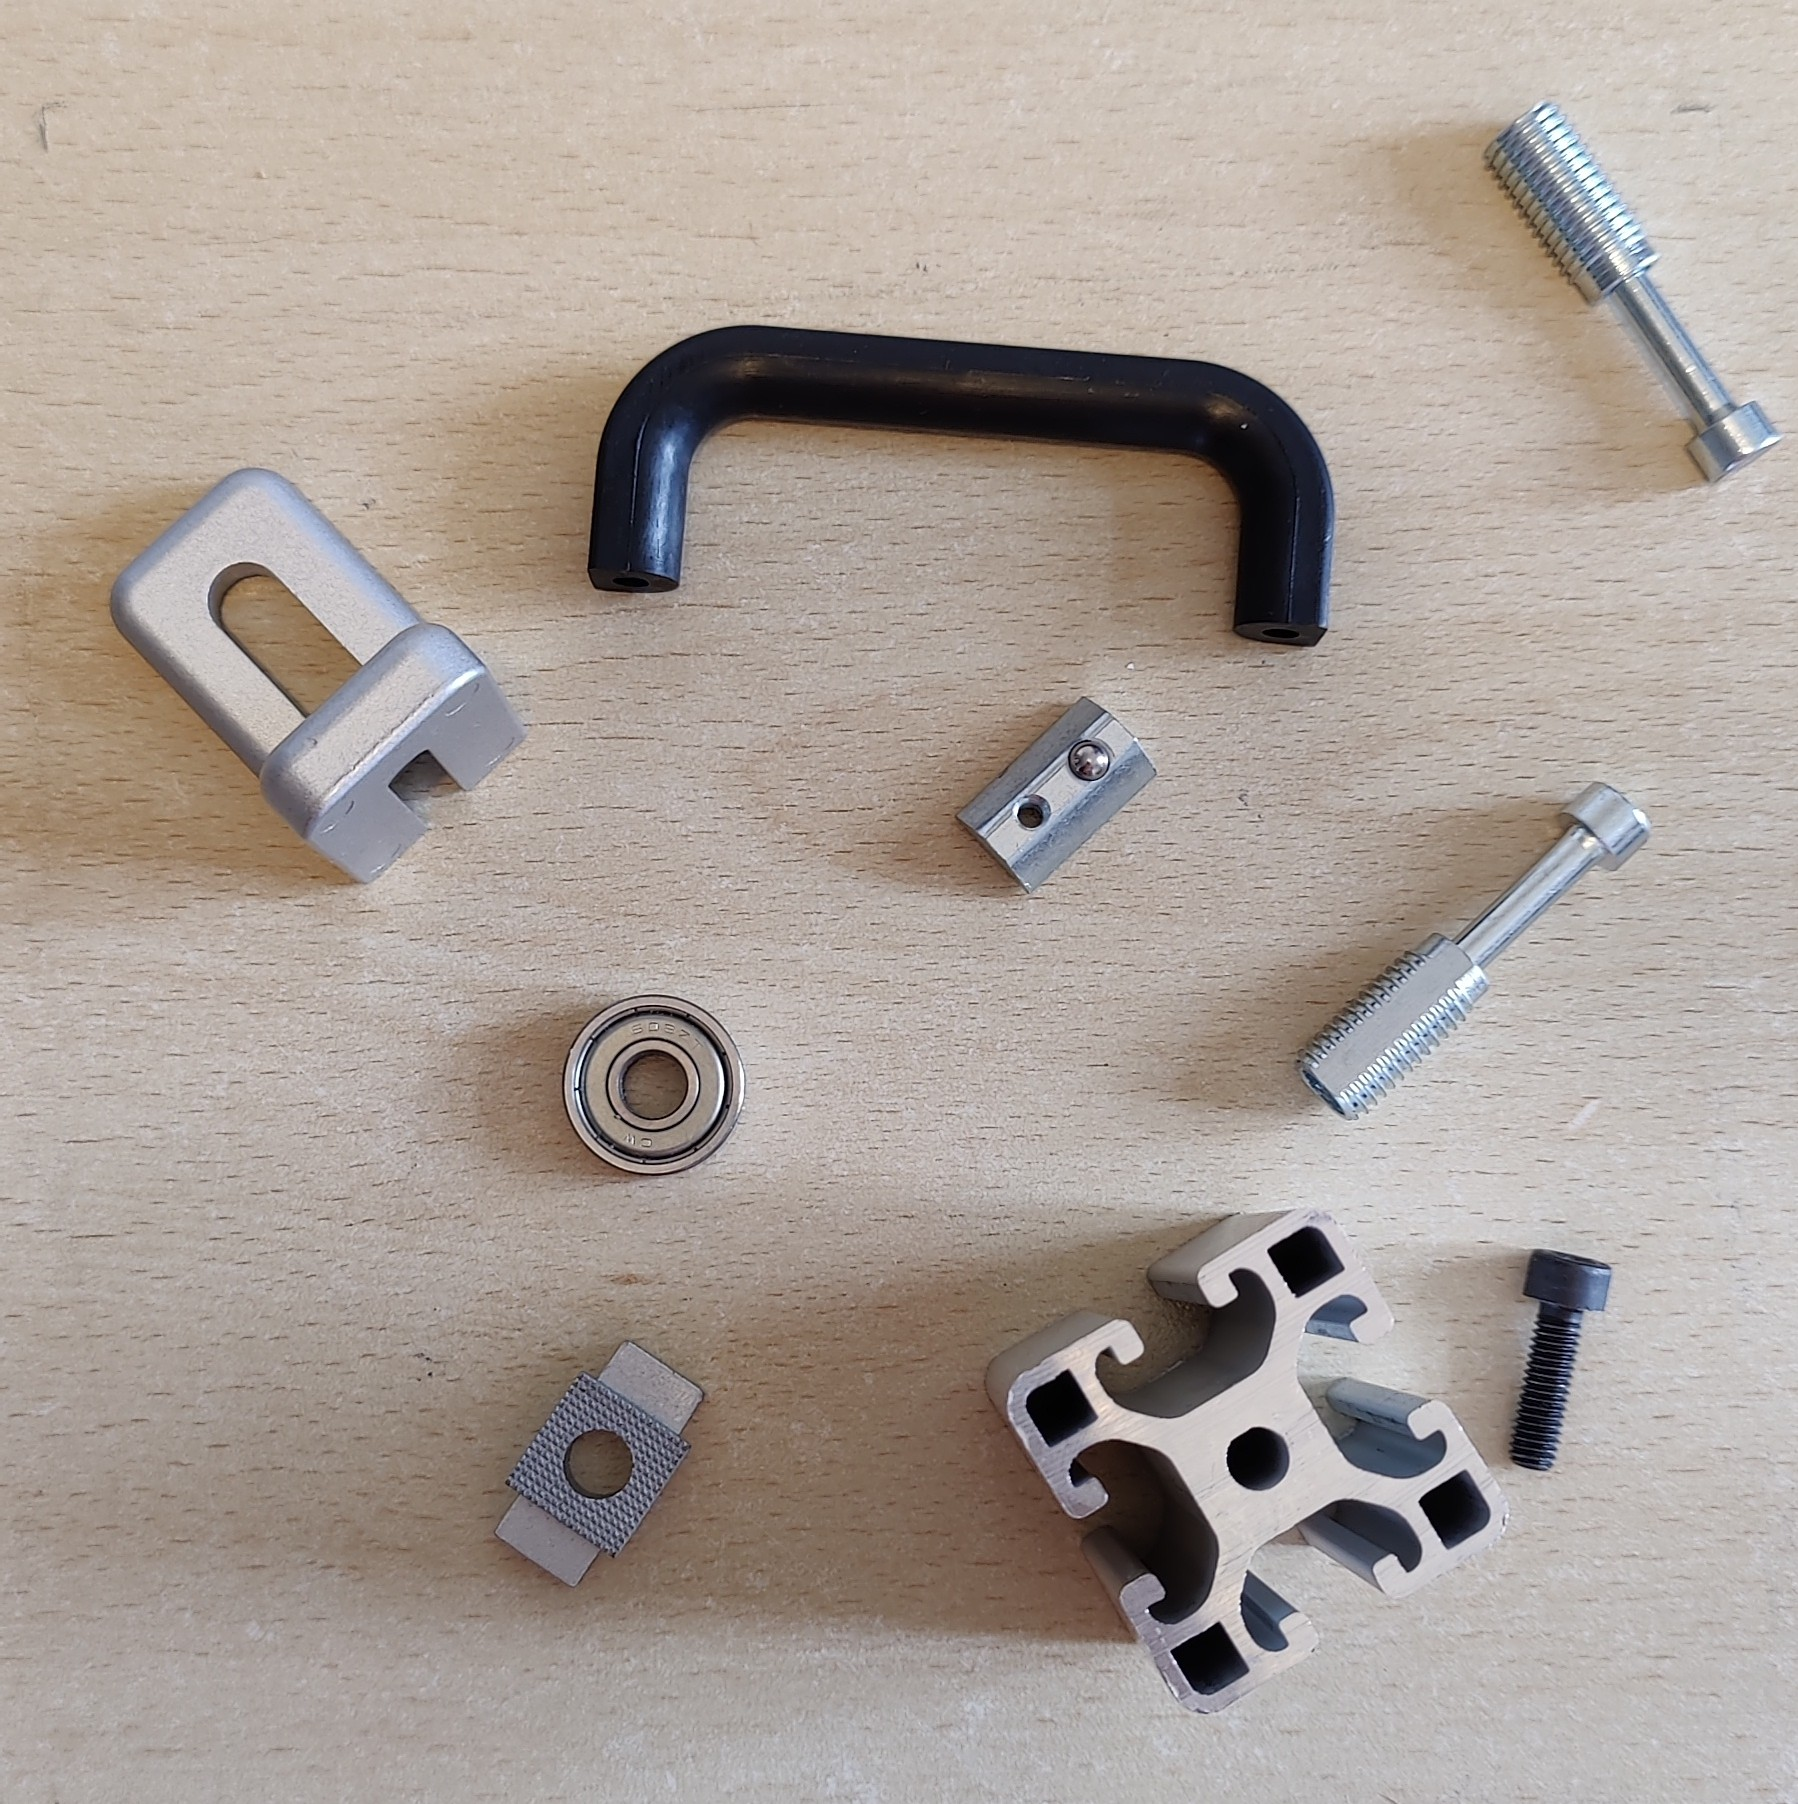Aluminium Extension: (980, 1208, 1510, 1715)
Ball Bearing: (561, 991, 746, 1179)
Multiwinkel: (109, 464, 530, 887)
Pull Handle: (585, 323, 1337, 649)
Shoulder Socket Head Cap Screw: (1291, 777, 1653, 1124), (1477, 99, 1786, 494)
Socket Head Cap Screw: (1508, 1243, 1615, 1475)
T Nut Square: (491, 1335, 706, 1588)
T Spring Nut: (953, 693, 1161, 897)
